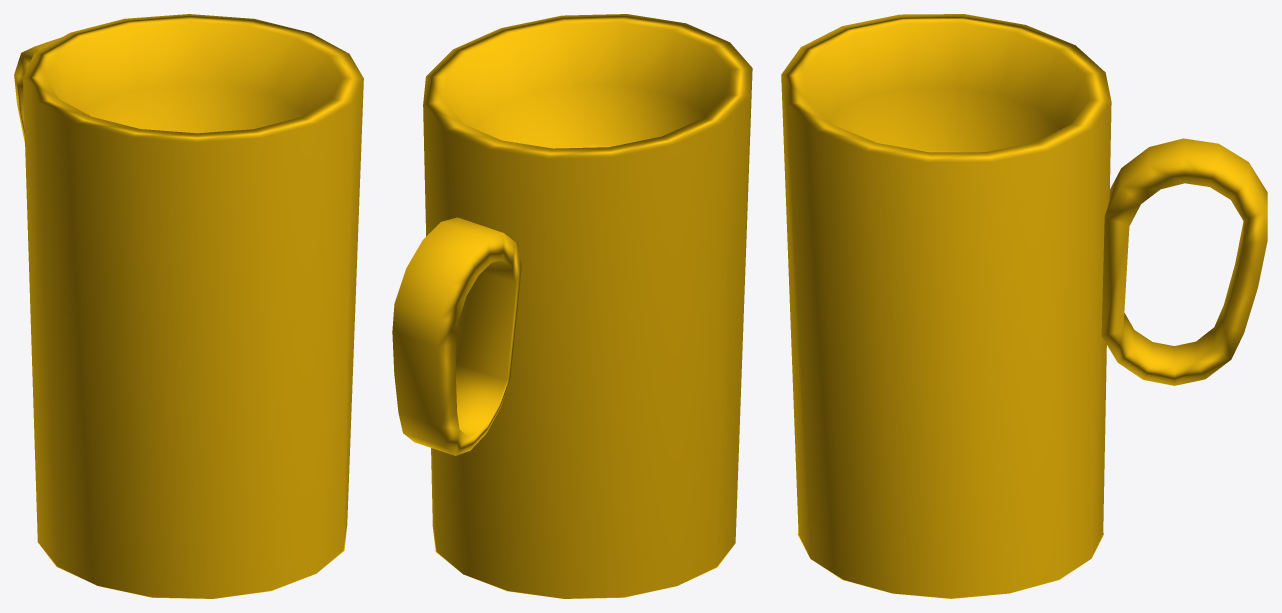
Rendered from Taza04.fbx.
The picture shows the model from 3 angles, left to right: view 1: azimuth 30°, elevation 25°; view 2: azimuth 150°, elevation 25°; view 3: azimuth 270°, elevation 25°; orthographic projection. The views are drawn at different scales.
Parts seen in each view (by area): view 1: Taza04; view 2: Taza04; view 3: Taza04.
Part boxes in pixels (left/top/right/bottom): Taza04: left=14, top=14, right=363, bottom=598; Taza04: left=392, top=14, right=752, bottom=598; Taza04: left=781, top=14, right=1267, bottom=598.
Size of the model in its own units: 13.33 by 20.16 by 19.64.
